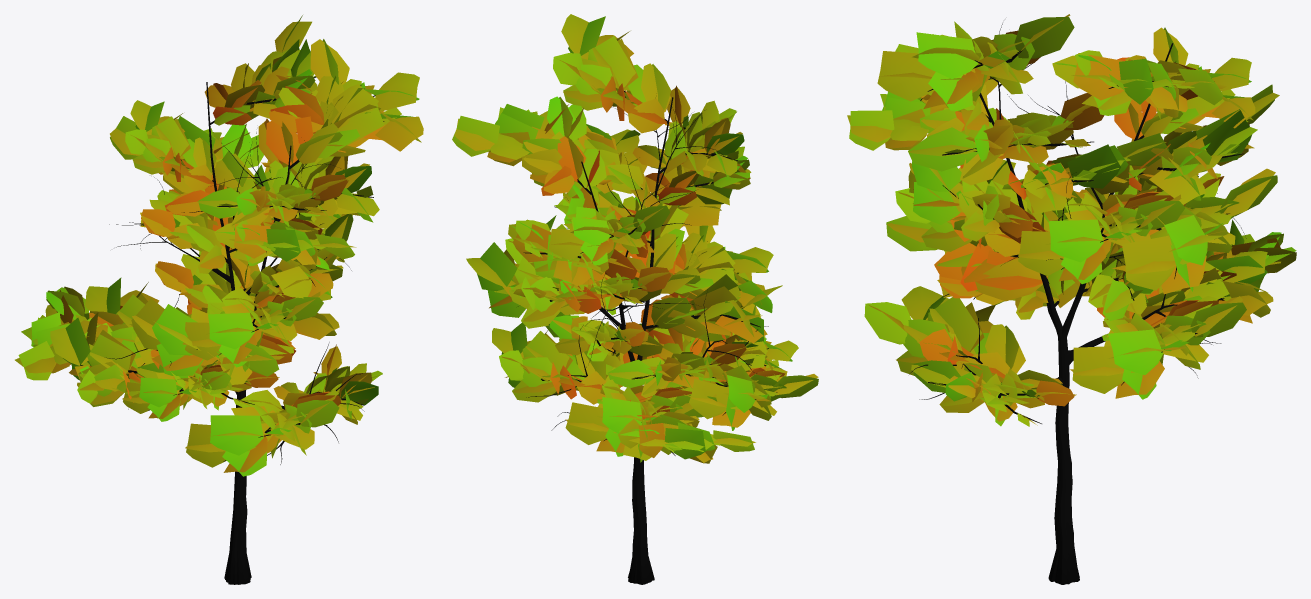
Rendered from Tree_tall_2.glb.
3 renders of one model, left to right at view 1: azimuth 30°, elevation 25°; view 2: azimuth 150°, elevation 25°; view 3: azimuth 270°, elevation 25°, orthographic. The views are drawn at different scales.
Visible parts, largest first — view 1: Tree tall 2; view 2: Tree tall 2; view 3: Tree tall 2.
Boxes of the visible parts, <box> form: Tree tall 2: <box>15,15,423,584</box>; Tree tall 2: <box>452,14,818,584</box>; Tree tall 2: <box>847,14,1296,584</box>.
Size of the model in its own units: 46.99 by 76.66 by 51.11.
